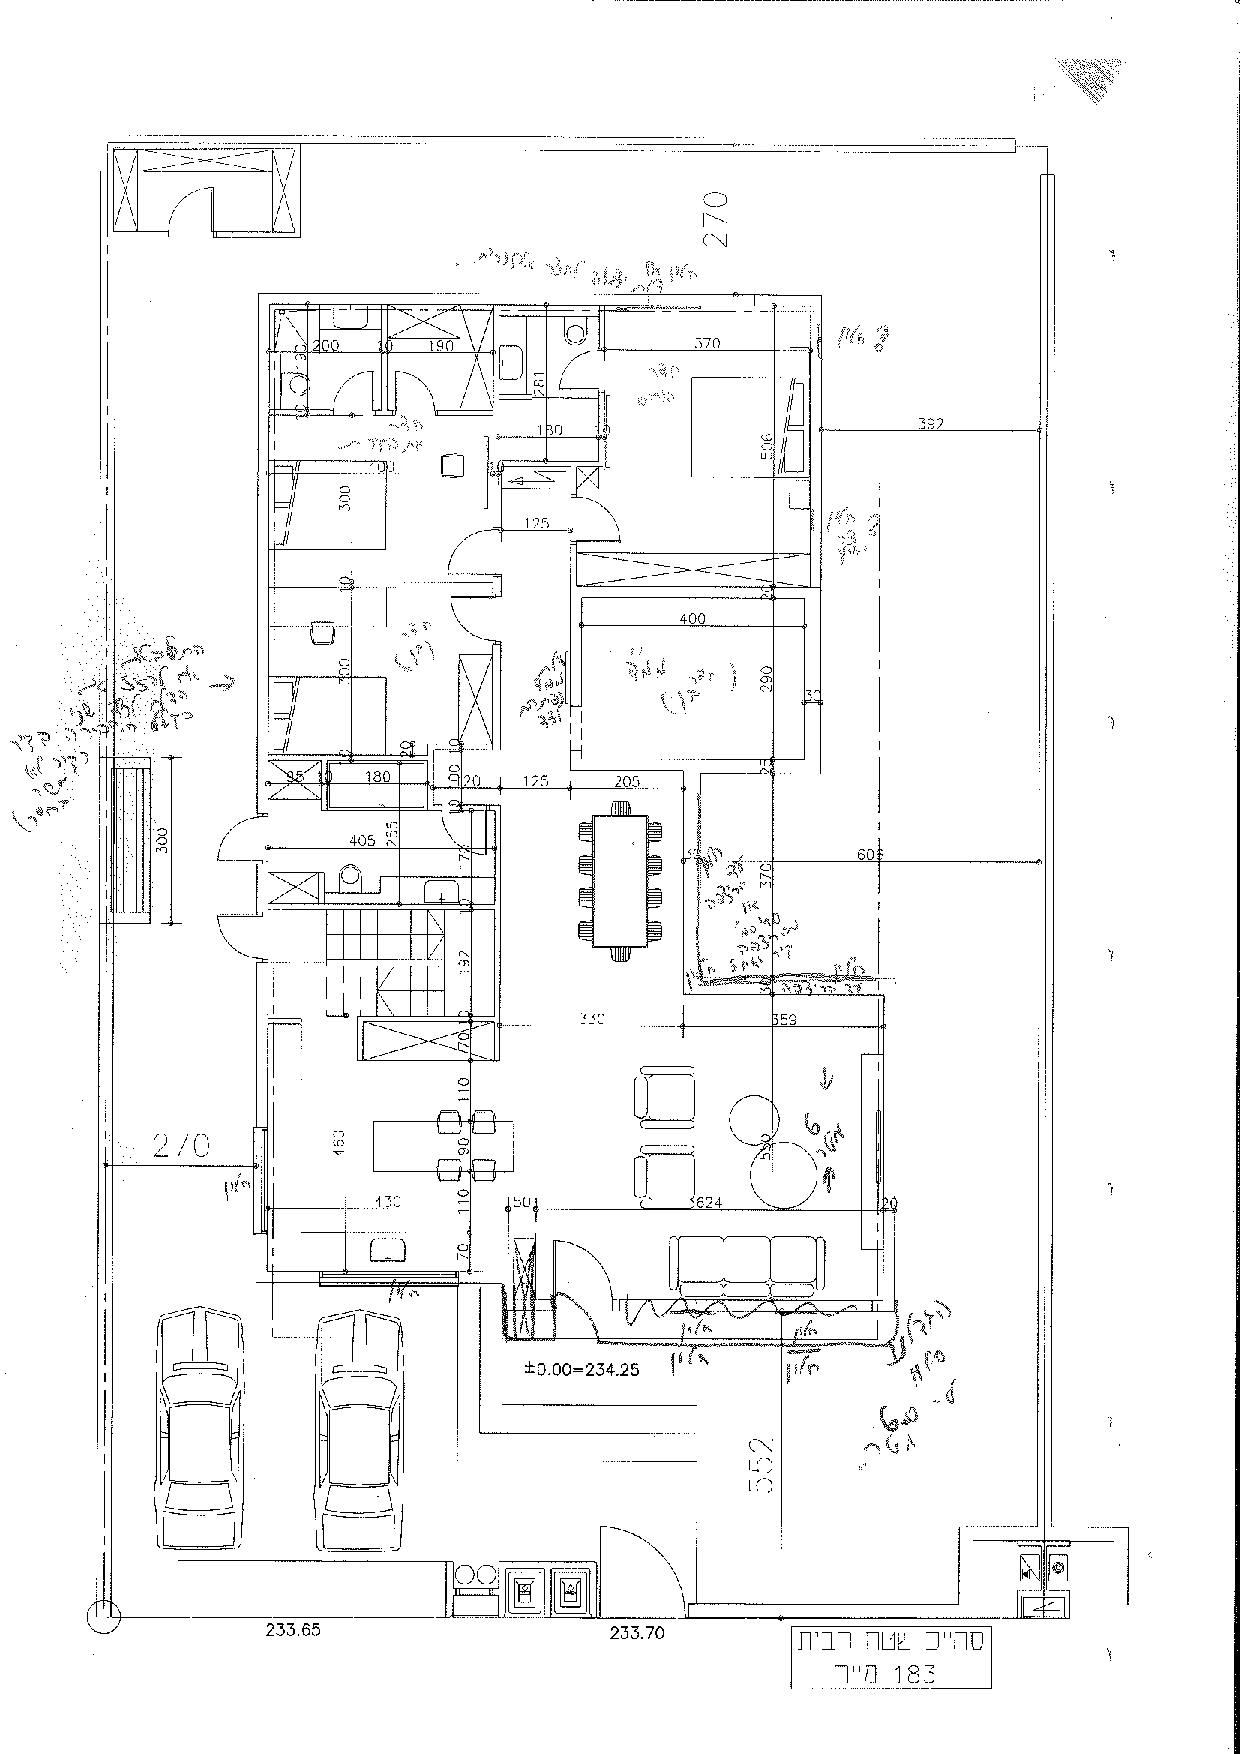door: (201, 904, 255, 962), (391, 355, 445, 411), (199, 813, 252, 869), (439, 524, 492, 582), (586, 494, 638, 551), (324, 367, 380, 403)
